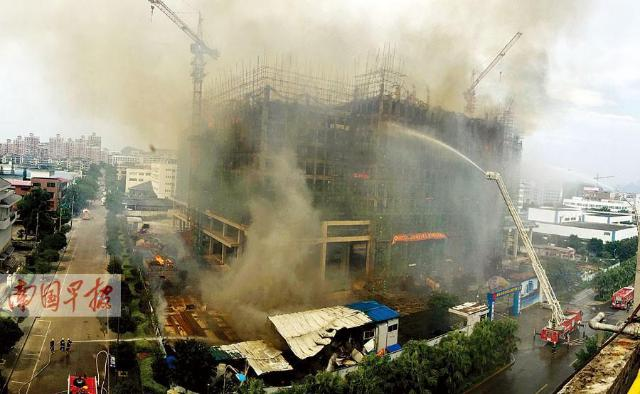fire: (154, 255, 164, 263)
